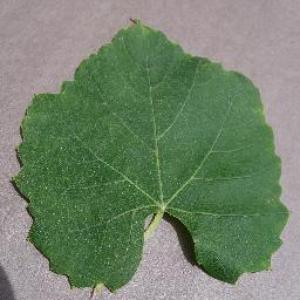Folha: (10, 16, 290, 296)
